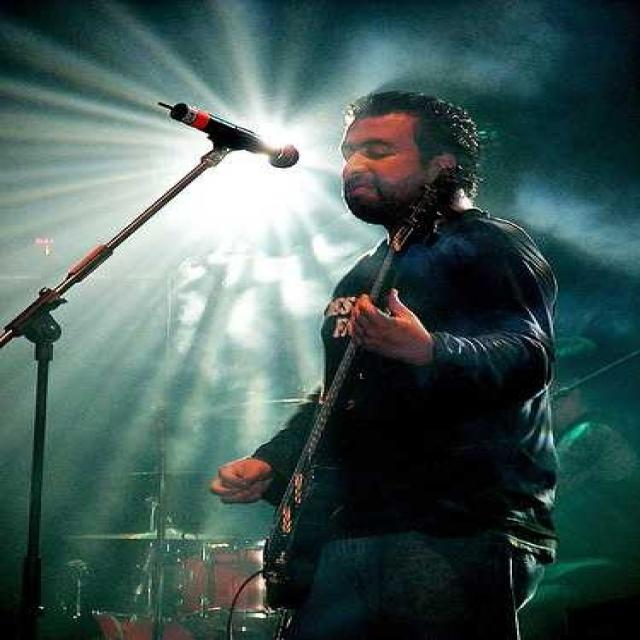microphone: (147, 86, 320, 194)
